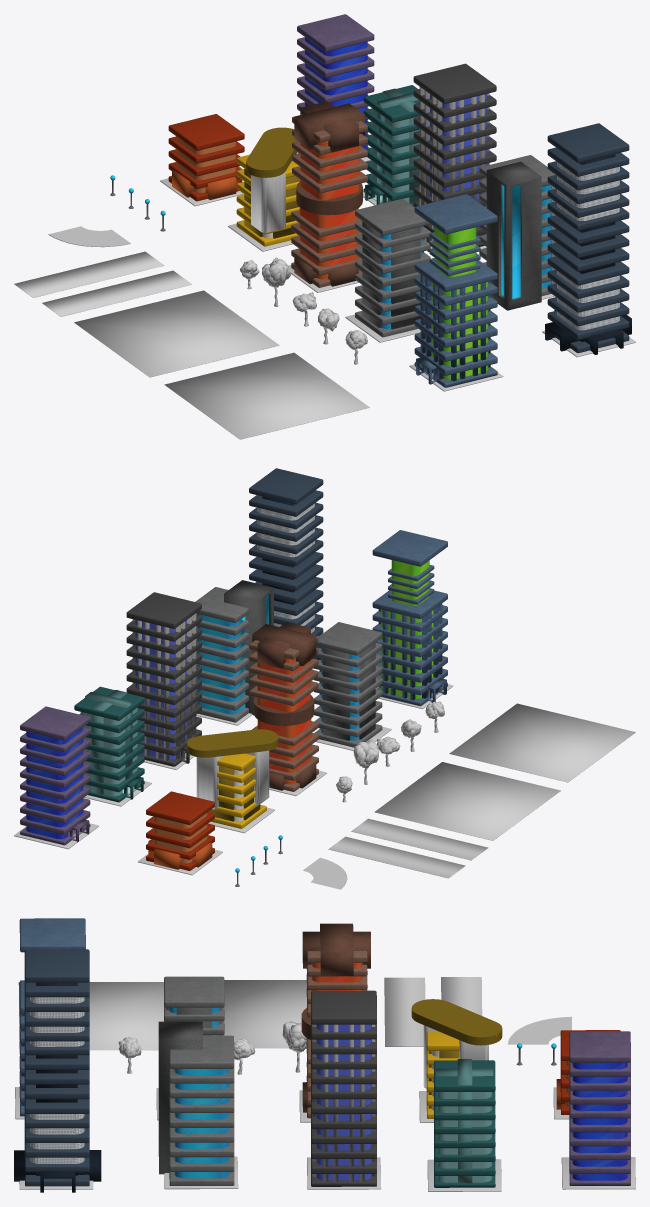
File: city digital.fbx
3 renders of one model, top to bottom at view 1: azimuth 30°, elevation 25°; view 2: azimuth 150°, elevation 25°; view 3: azimuth 270°, elevation 25°, orthographic. The views are drawn at different scales.
Parts seen in each view (by area): view 1: building 006, building 010, building 009, building 003, cross 01.1, cross 01, building 005, building 004, building 001, building 008, building 002, building 007 (+4 smaller); view 2: building 003, building 010, building 006, building 009, building 001, cross 01.1, cross 01, building 005, building 004, building 008, building 002, building 007 (+4 smaller); view 3: building 006, building 003, building 005, building 001, building 002, building 009, cross 01, cross 01.1, building 008, building 004, building 010, road 01 (+10 smaller).
Part boxes in pixels (<box>): building 006: <box>545,123,631,354</box>; building 010: <box>414,194,497,387</box>; building 009: <box>291,101,367,287</box>; building 003: <box>413,63,496,252</box>; cross 01.1: <box>74,290,279,377</box>; cross 01: <box>164,352,369,439</box>; building 005: <box>479,155,555,310</box>; building 004: <box>355,198,430,337</box>; building 001: <box>297,14,374,158</box>; building 008: <box>236,127,300,246</box>; building 002: <box>363,85,419,205</box>; building 007: <box>168,114,244,201</box>; building 003: <box>126,592,201,766</box>; building 010: <box>372,530,447,706</box>; building 006: <box>249,468,323,669</box>; building 009: <box>249,622,318,791</box>; building 001: <box>20,706,90,845</box>; cross 01.1: <box>374,762,560,840</box>; cross 01: <box>449,703,635,782</box>; building 005: <box>195,580,273,722</box>; building 004: <box>313,622,382,747</box>; building 008: <box>187,729,278,828</box>; building 002: <box>74,686,144,802</box>; building 007: <box>146,791,214,870</box>; building 006: <box>14,949,101,1192</box>; building 003: <box>311,990,376,1186</box>; building 005: <box>158,1021,234,1185</box>; building 001: <box>569,1031,630,1185</box>; building 002: <box>434,1059,495,1187</box>; building 009: <box>301,923,370,1118</box>; cross 01: <box>18,982,163,1050</box>; cross 01.1: <box>224,980,306,1048</box>; building 008: <box>411,999,502,1118</box>; building 004: <box>164,976,224,1035</box>; building 010: <box>19,918,85,1116</box>; road 01: <box>384,977,425,1046</box>.
Size of the model in its own units: 359 by 166 by 438.
